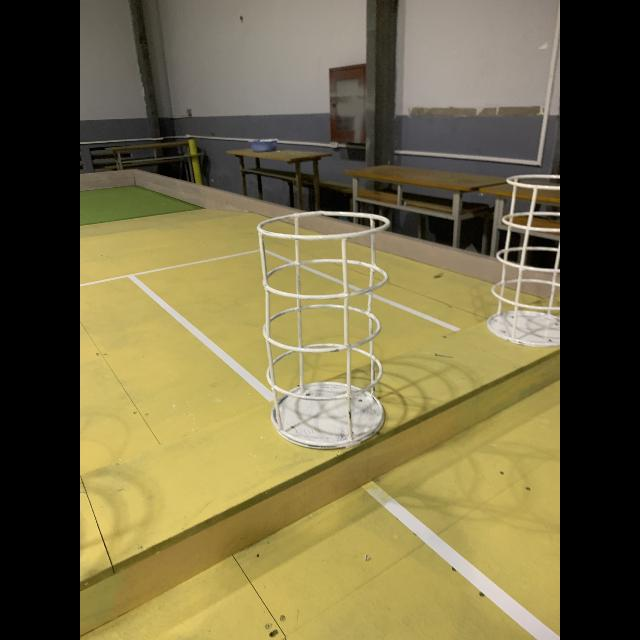S: (255, 210, 392, 452), (488, 172, 560, 348)
